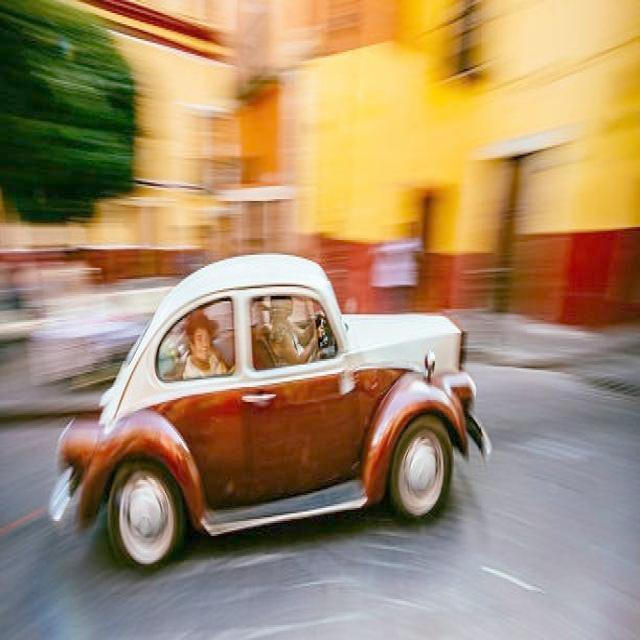car: (65, 269, 473, 539)
